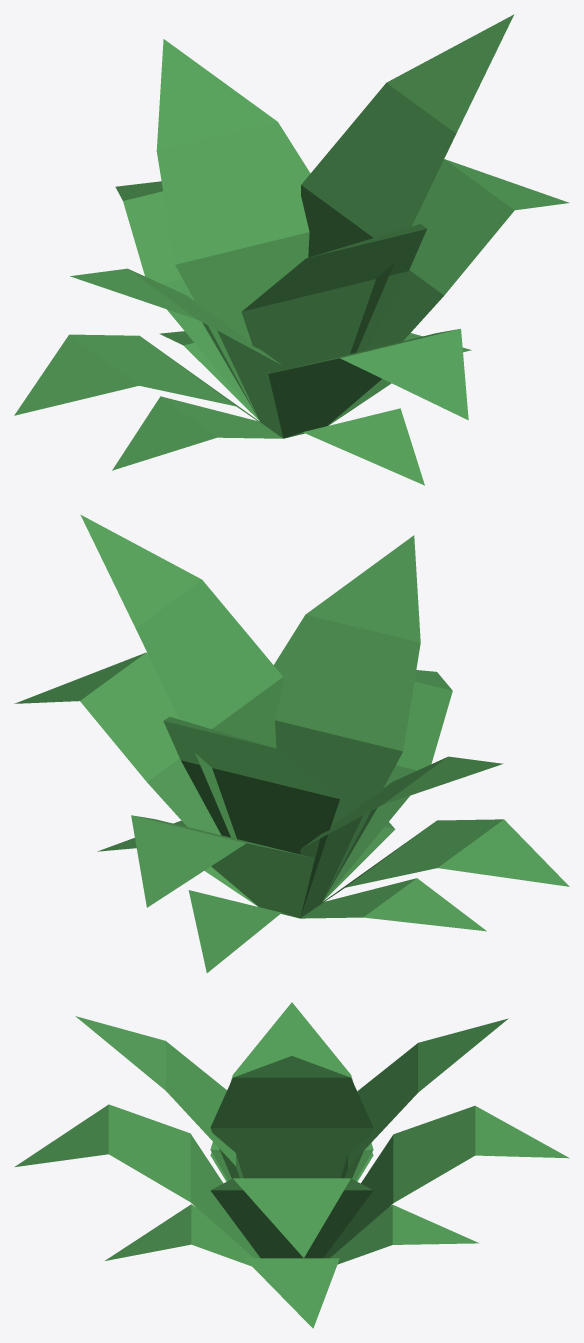
File: bush.glb
3 renders of one model, top to bottom at view 1: azimuth 30°, elevation 25°; view 2: azimuth 150°, elevation 25°; view 3: azimuth 270°, elevation 25°, orthographic. The views are drawn at different scales.
Parts seen in each view (by area): view 1: bush; view 2: bush; view 3: bush.
Boxes of the visible parts, x1=… form: bush: x1=14, y1=14, x2=569, y2=485; bush: x1=14, y1=514, x2=569, y2=972; bush: x1=14, y1=1002, x2=569, y2=1328.
Bounding box in the file's own units: 1.76 × 1.05 × 1.76.
